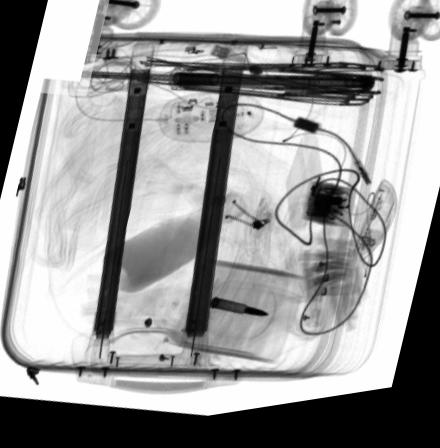Bullet: (208, 303, 269, 324)
